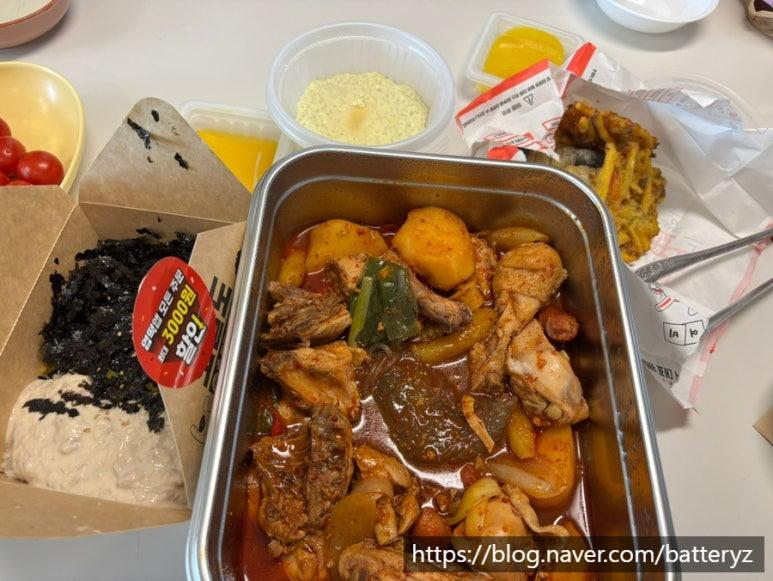Lunch Box: (186, 147, 679, 580), (456, 43, 772, 408), (0, 98, 251, 537), (267, 22, 455, 152), (0, 62, 84, 190), (179, 101, 290, 192), (466, 12, 584, 92), (641, 70, 762, 126), (596, 0, 717, 33)
